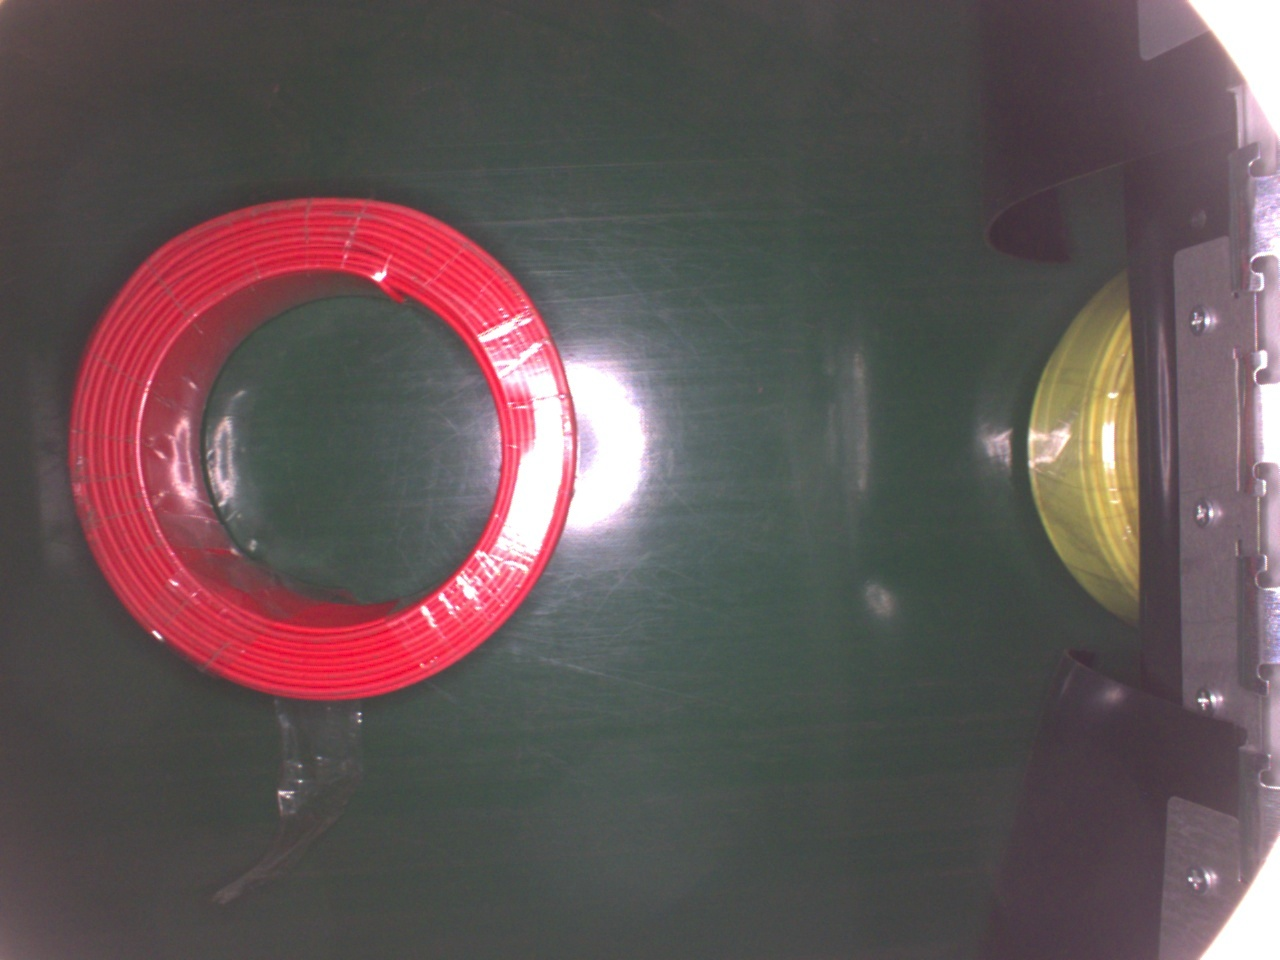red: (71, 195, 575, 707)
yellow: (1028, 263, 1144, 629)
